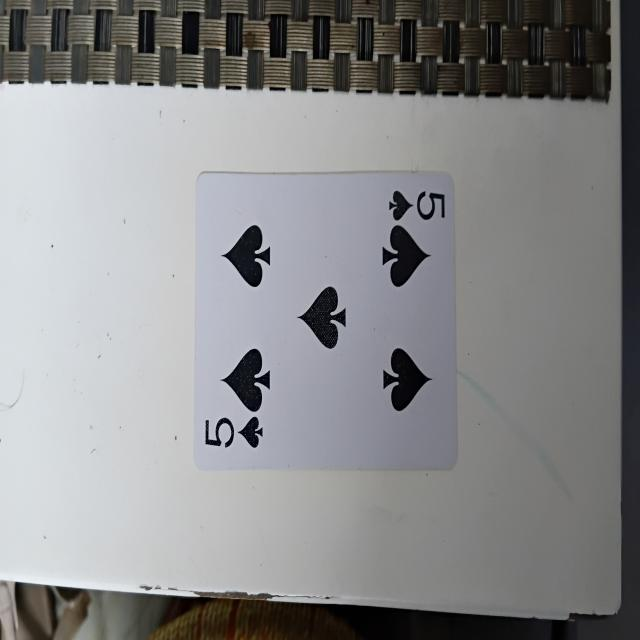5S: (193, 171, 460, 475)
